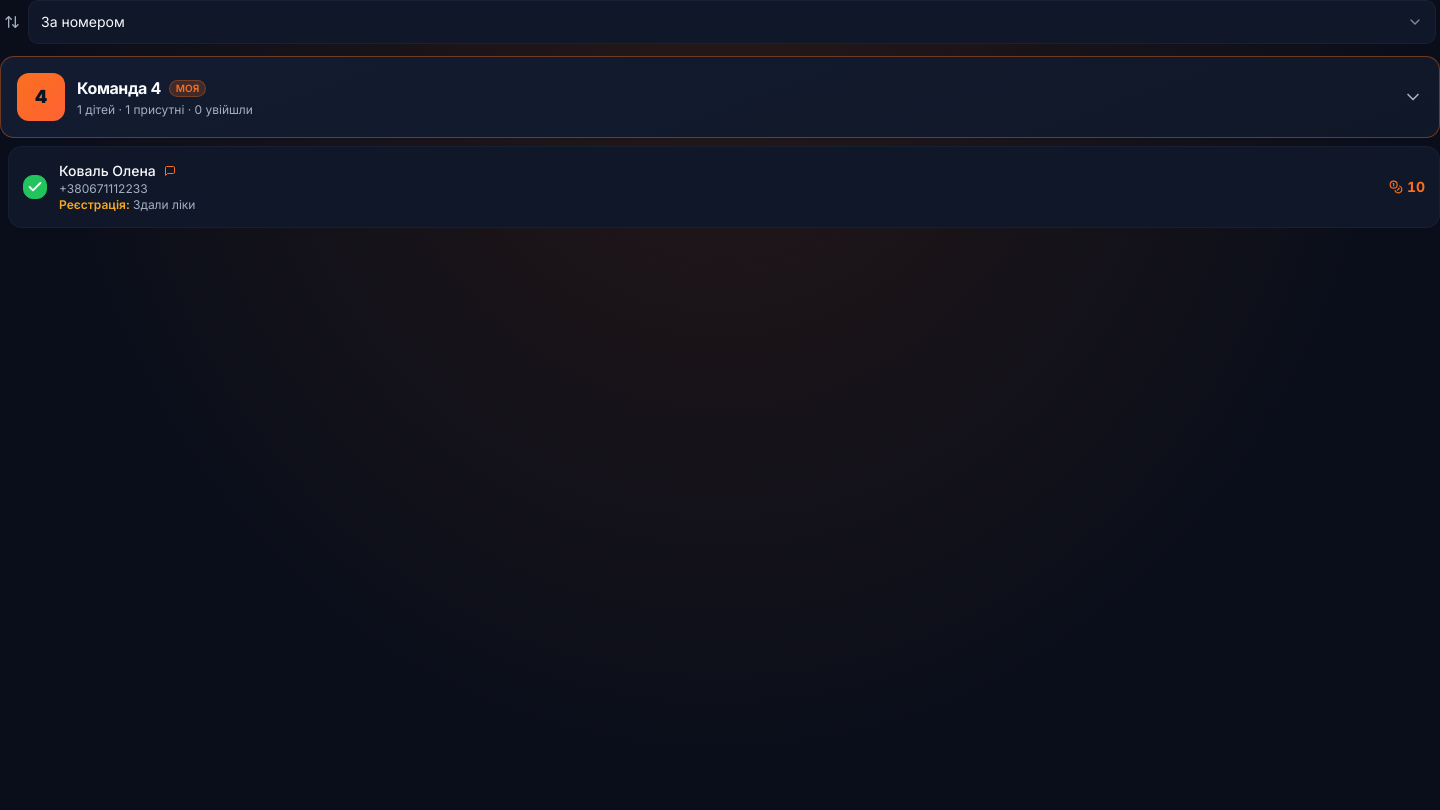
Test: нотатка з реєстрації у супроводу › не чіпає нотатку, якщо супровід відкрив картку нічого в ній не міняв
What coordinates should you click on to do the following:
click the button with aria-label "Відкрити картку: Коваль Олена"
I would click on:
 (107, 170)
Its box is left=8, top=146, right=1439, bottom=228.
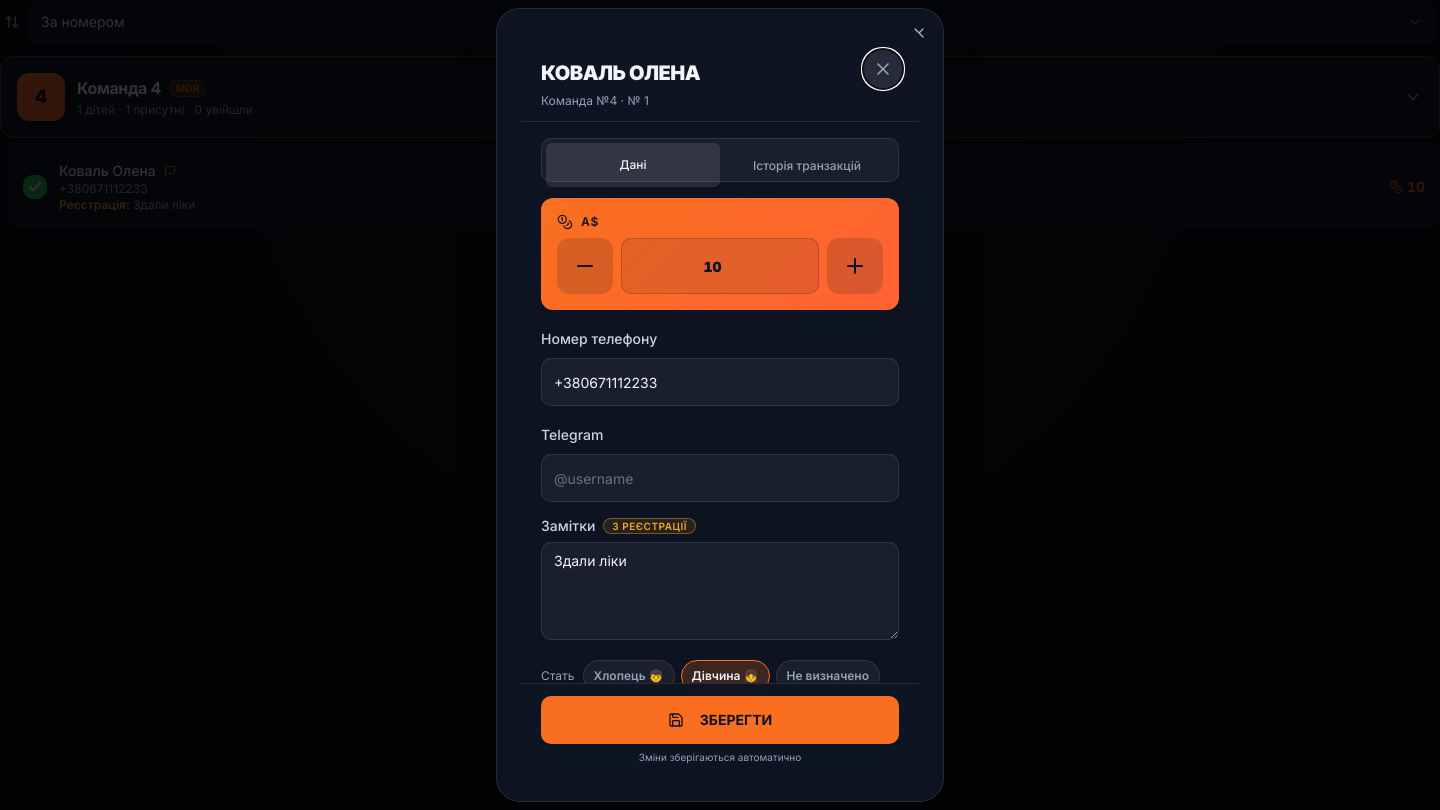
Result: the text "з реєстрації" is shown at left=603, top=518, right=696, bottom=534
